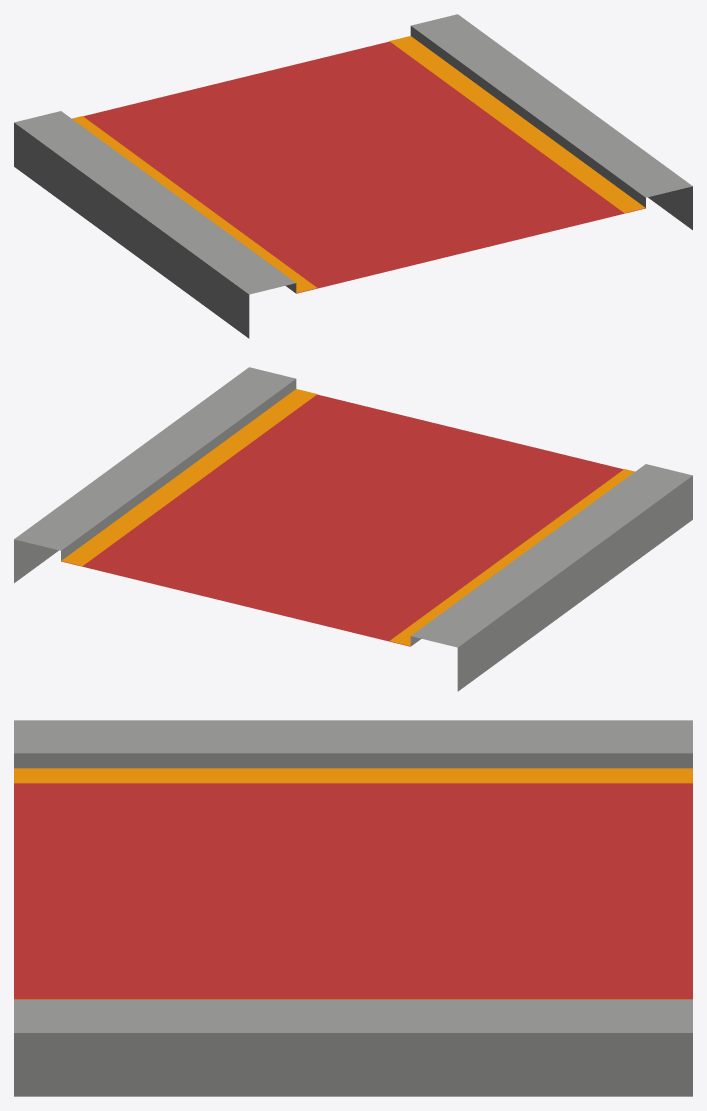
Rendered from Road_C_12.fbx.
The picture shows the model from 3 angles, top to bottom: view 1: azimuth 30°, elevation 25°; view 2: azimuth 150°, elevation 25°; view 3: azimuth 270°, elevation 25°; orthographic projection. The views are drawn at different scales.
Parts seen in each view (by area): view 1: Road_C_12; view 2: Road_C_12; view 3: Road_C_12.
Boxes of the visible parts, <box> form: Road_C_12: <box>14,14,692,338</box>; Road_C_12: <box>14,367,692,691</box>; Road_C_12: <box>14,720,692,1096</box>.
Bounding box in the file's own units: 436 × 41.48 × 400.
